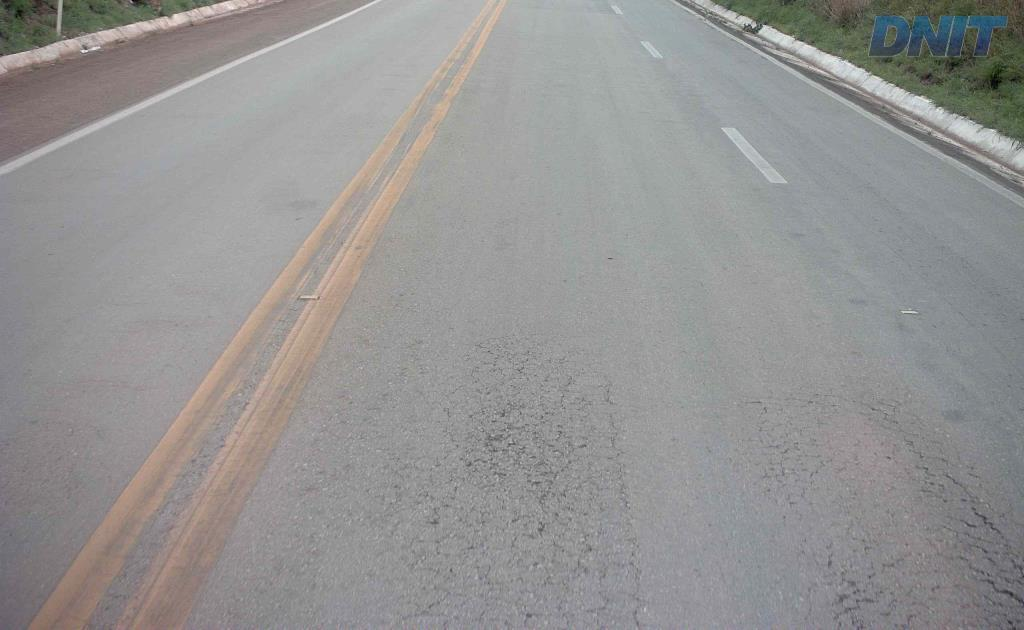crack: (459, 420, 575, 514), (942, 468, 1004, 539), (979, 578, 1023, 629), (468, 399, 525, 425)
